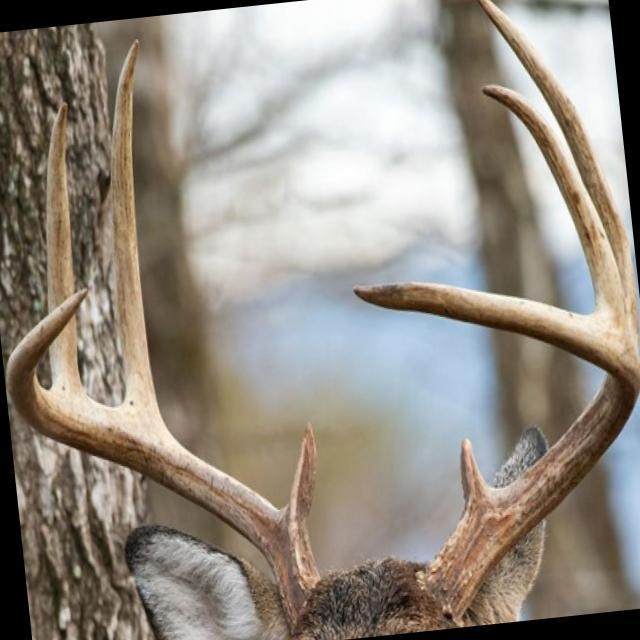L-F: (352, 280, 640, 626)
L-G1: (459, 437, 490, 504)
L-G2: (476, 0, 639, 347)
L-G3: (479, 82, 636, 346)
R-F: (6, 287, 320, 633)
R-G1: (282, 419, 317, 533)
R-G2: (110, 37, 160, 417)
